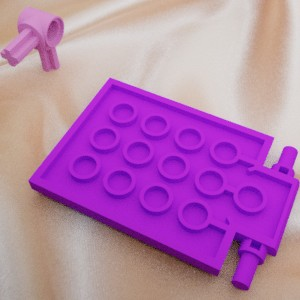lego: (27, 77, 300, 290), (0, 6, 64, 71)
